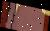scratch: (5, 1, 45, 31)
